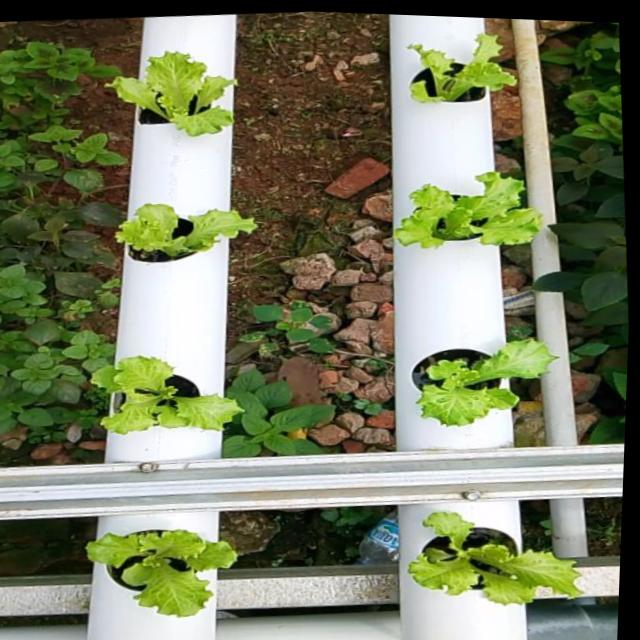Baby: (410, 512, 585, 605), (87, 516, 238, 620), (408, 345, 554, 432), (92, 357, 247, 437), (391, 178, 540, 254), (106, 58, 236, 142), (113, 209, 256, 268), (407, 42, 514, 110)
